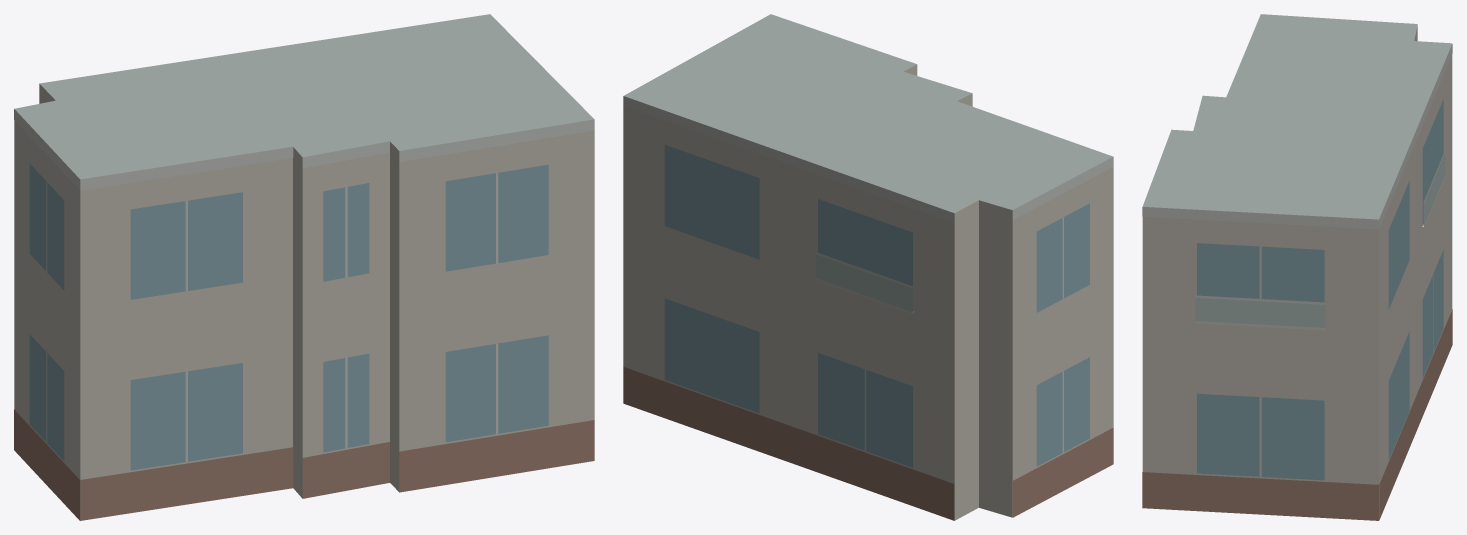
File: survey-upis-32517971.glb
3 renders of one model, left to right at view 1: azimuth 30°, elevation 25°; view 2: azimuth 150°, elevation 25°; view 3: azimuth 270°, elevation 25°, orthographic. The views are drawn at different scales.
Visible parts, largest first — view 1: survey-upis-32517971.tmp; view 2: survey-upis-32517971.tmp; view 3: survey-upis-32517971.tmp.
Part boxes in pixels (x1,y1,x2,y2): survey-upis-32517971.tmp: (14,14,594,520); survey-upis-32517971.tmp: (623,14,1113,520); survey-upis-32517971.tmp: (1142,14,1452,520).
Bounding box in the file's own units: 10.98 × 7.5 × 7.
